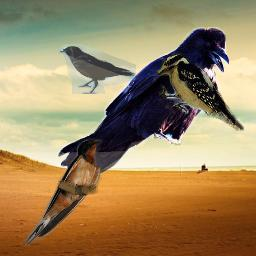Crow: (58, 27, 229, 175), (59, 44, 136, 94)
Swallow: (21, 137, 104, 246)
Woodpecker: (156, 50, 244, 131)
